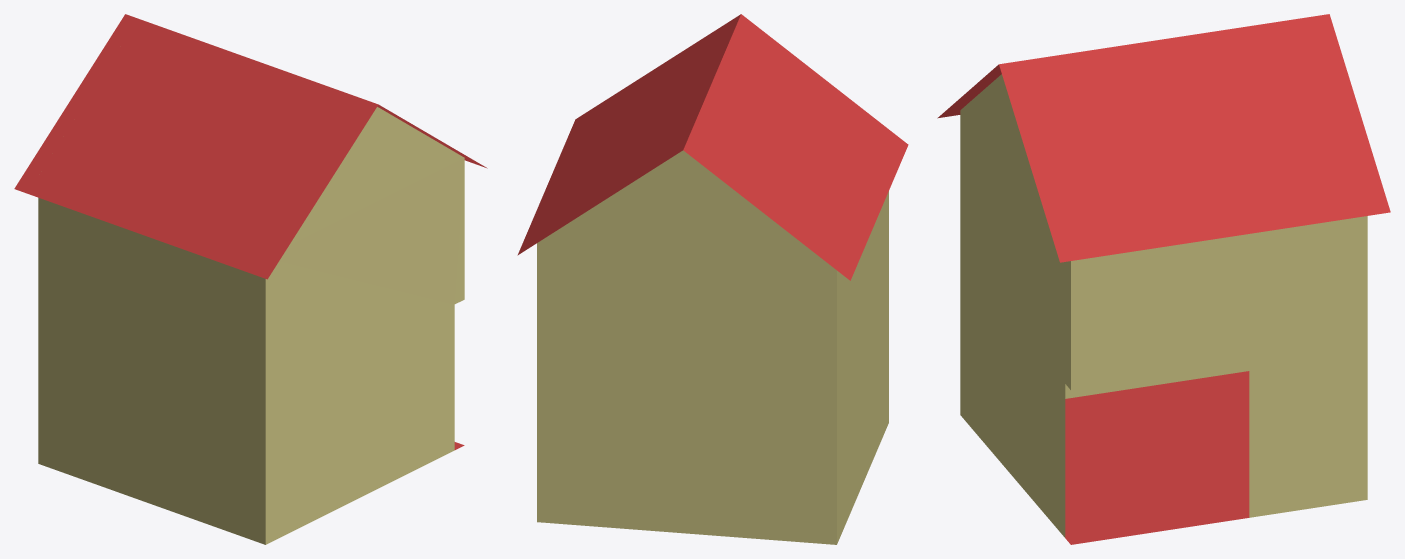
The picture shows the model from 3 angles, left to right: view 1: azimuth 30°, elevation 25°; view 2: azimuth 150°, elevation 25°; view 3: azimuth 270°, elevation 25°; orthographic projection. The views are drawn at different scales.
Bounding box in the file's own units: 12.77 × 12.57 × 12.8.
